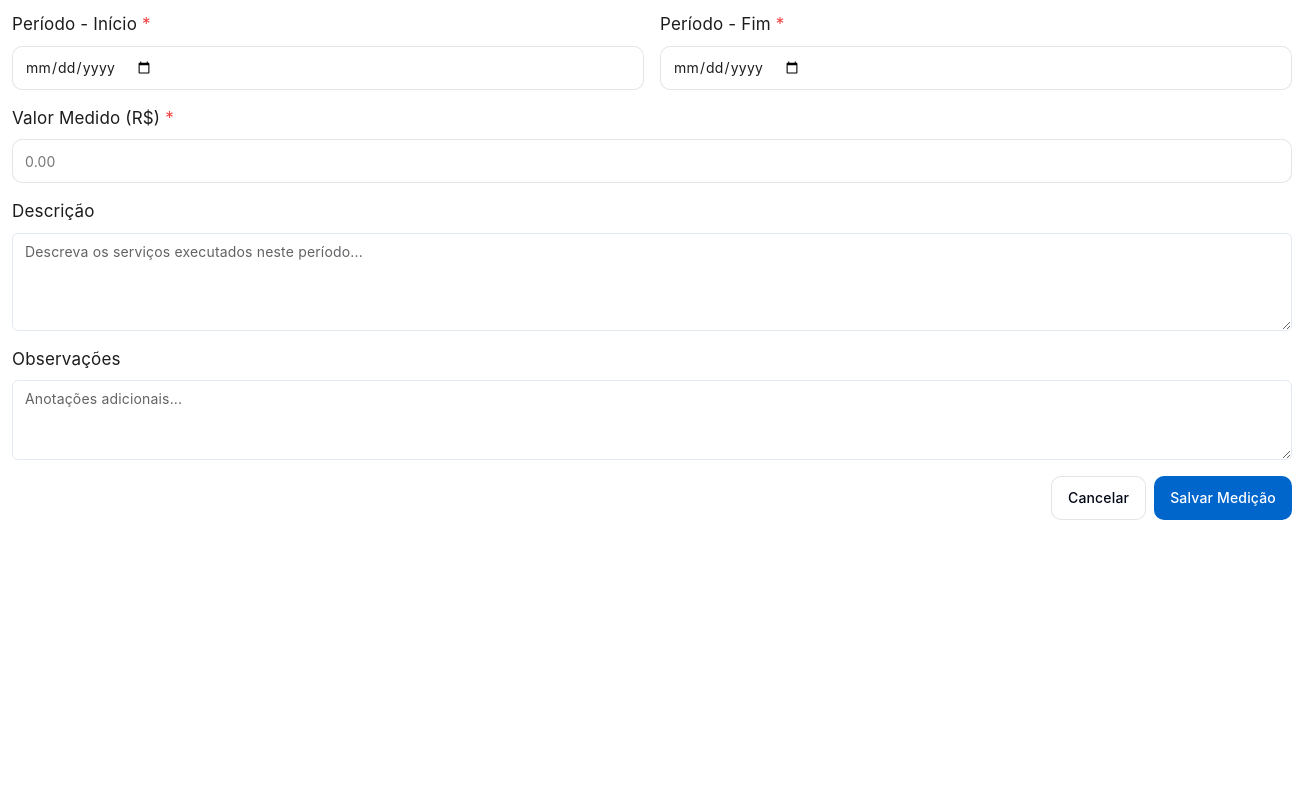
it: MedicaoForm › should show validation errors when submitting empty form
Click the button "Salvar Medição": (1223, 498) 1154,476 -> 1292,520
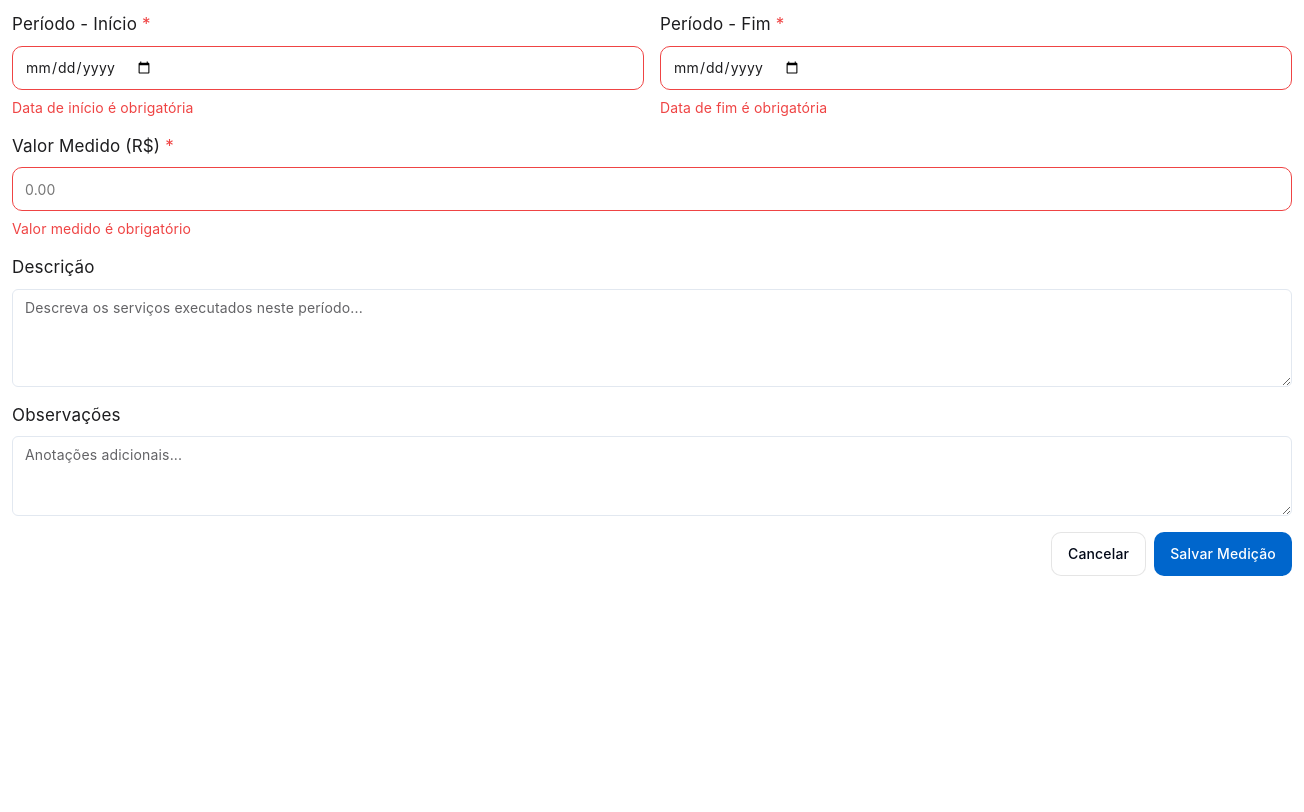
Now the text "Data de início é obrigatória" is shown, box 12,98 -> 194,116
Now the text "Data de fim é obrigatória" is shown, box 660,98 -> 827,116
Now the text "Valor medido é obrigatório" is shown, box 12,220 -> 191,237
